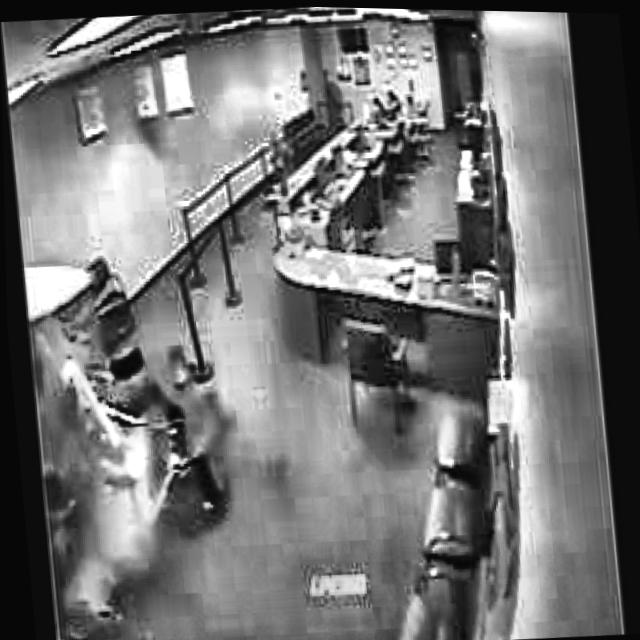burglary: (20, 221, 271, 640)
